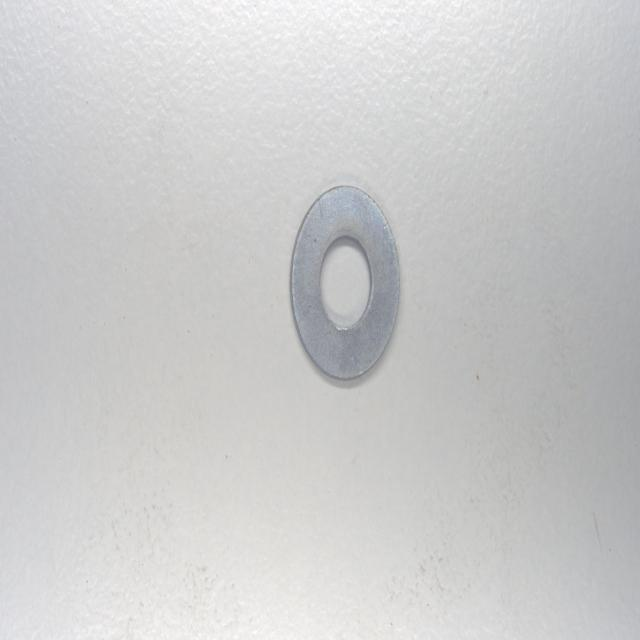washer: (290, 181, 402, 385)
